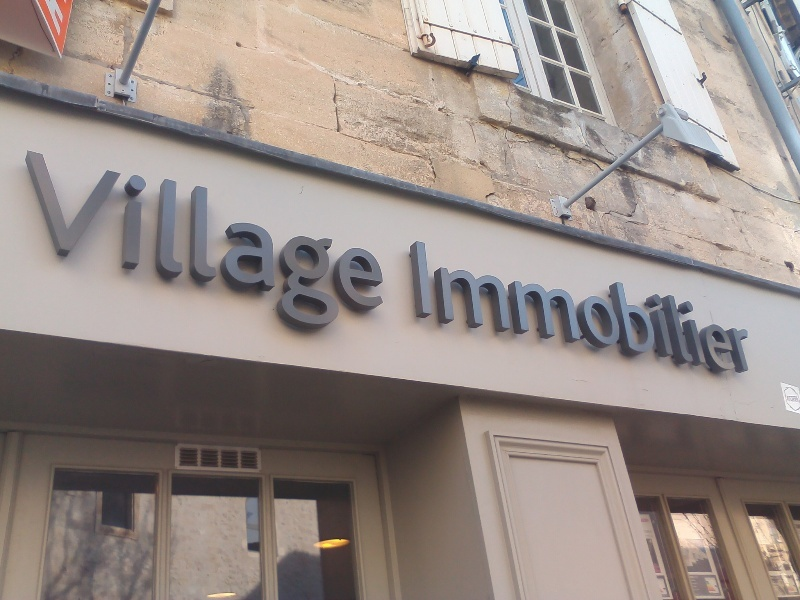text: (33, 145, 48, 353), (49, 145, 64, 353), (65, 145, 80, 353), (81, 145, 96, 353), (97, 145, 112, 353), (113, 145, 128, 353), (129, 145, 144, 353), (145, 145, 160, 353), (161, 145, 176, 353), (177, 145, 192, 353), (193, 145, 208, 353), (209, 145, 224, 353), (225, 145, 240, 353), (241, 145, 256, 353), (257, 145, 272, 353), (273, 145, 288, 353), (289, 145, 304, 353), (305, 145, 320, 353), (321, 145, 336, 353), (337, 145, 352, 353), (353, 145, 368, 353), (369, 145, 384, 353), (19, 145, 32, 353), (417, 236, 432, 378), (433, 236, 448, 378), (449, 236, 464, 378), (465, 236, 480, 378), (481, 236, 496, 378), (497, 236, 512, 378), (513, 236, 528, 378), (529, 236, 544, 378), (545, 236, 560, 378), (561, 236, 576, 378), (577, 236, 592, 378), (593, 236, 608, 378), (609, 236, 624, 378), (625, 236, 640, 378), (641, 236, 656, 378), (657, 236, 672, 378), (673, 236, 688, 378), (689, 236, 704, 378), (705, 236, 720, 378), (721, 236, 736, 378), (737, 236, 752, 378), (408, 236, 416, 378), (385, 145, 389, 353), (785, 393, 800, 406), (753, 236, 754, 378), (783, 393, 784, 406)
